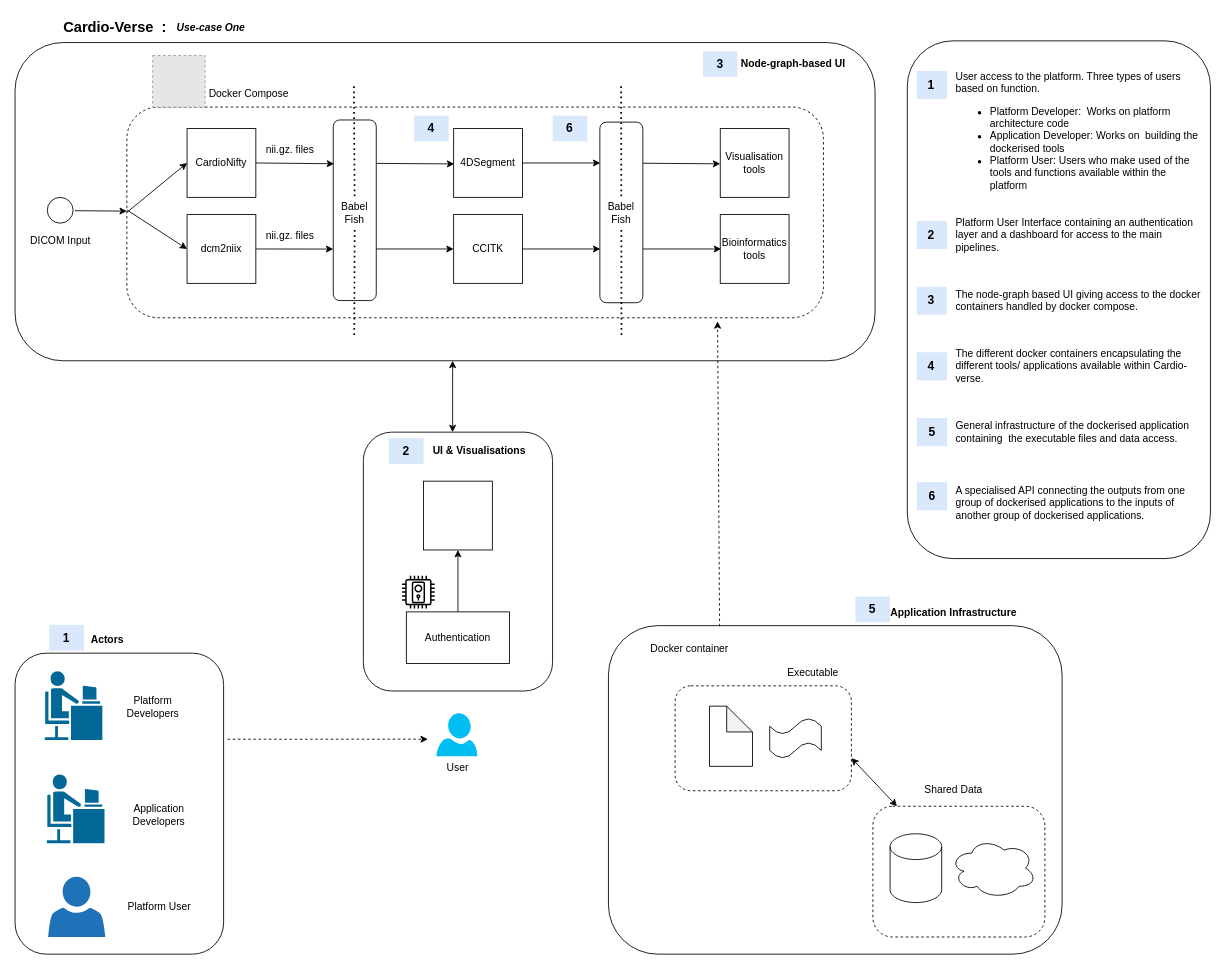
Some shapes in this 1226 by 969 pixel diagram are drawn without their labels. Grey dashed boxes stand in for pictures. The shapes that lost their labels are listed below. From the top down, each one's box as (x1, y1, x2, y2) in pixels, then its label:
(423, 480, 492, 550): Dashboard
(709, 705, 752, 766): Code
(769, 717, 821, 758): Model
(889, 833, 942, 903): Internal data drives
(949, 837, 1036, 898): Biobank
